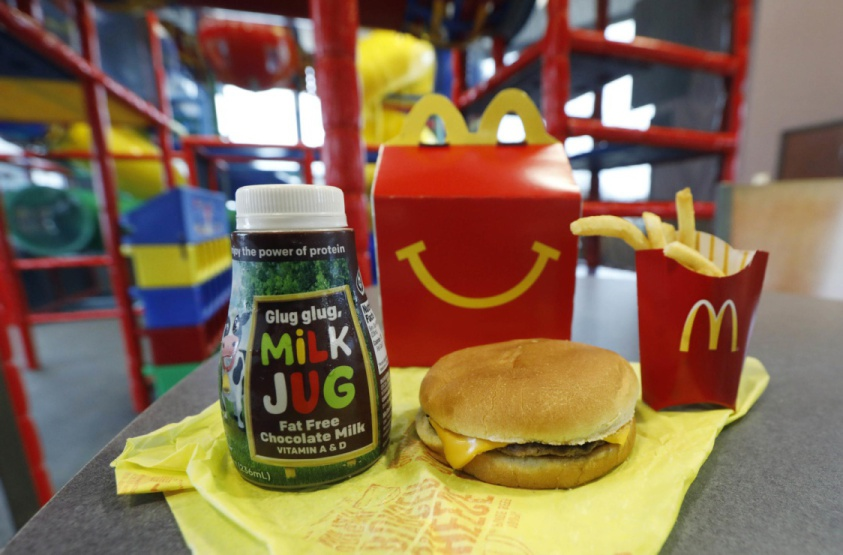mcdonalds: (673, 295, 746, 363)
